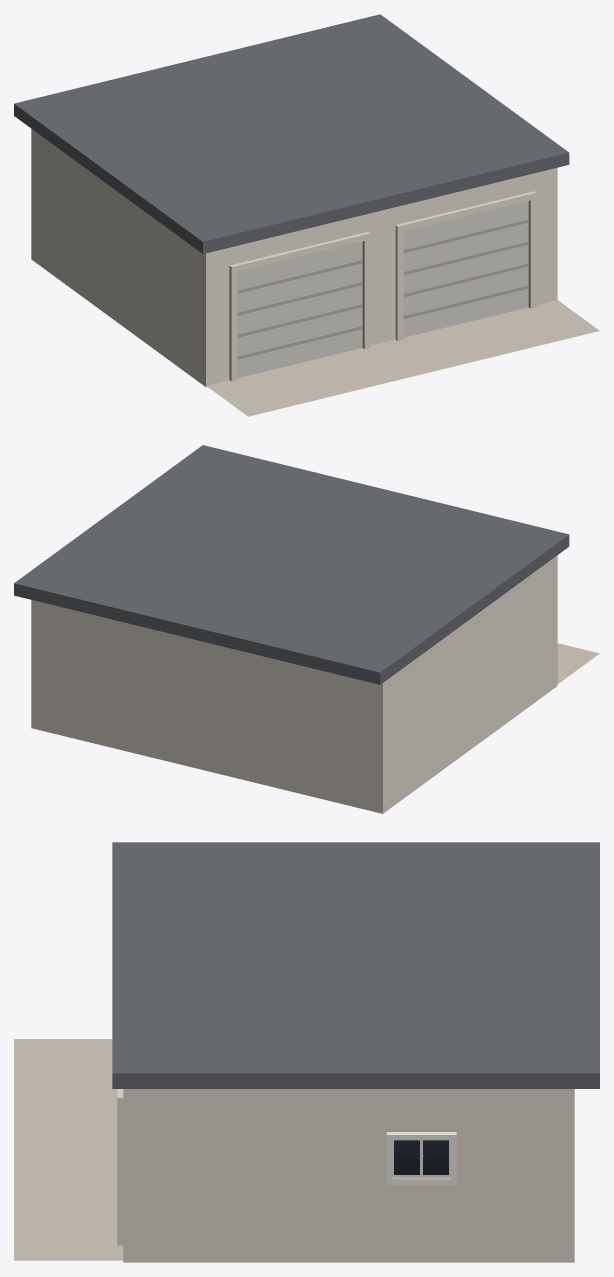
Rendered from garage_double.glb.
The picture shows the model from 3 angles, top to bottom: view 1: azimuth 30°, elevation 25°; view 2: azimuth 150°, elevation 25°; view 3: azimuth 270°, elevation 25°; orthographic projection. The views are drawn at different scales.
Visible parts, largest first — view 1: garage_double; view 2: garage_double; view 3: garage_double.
Part boxes in pixels (bbox=[...]): garage_double: bbox=[14, 14, 599, 416]; garage_double: bbox=[14, 445, 599, 813]; garage_double: bbox=[14, 842, 599, 1262].
Bounding box in the file's own units: 7.5 × 2.94 × 8.05.
Materials: 2 (2 with a texture image).
